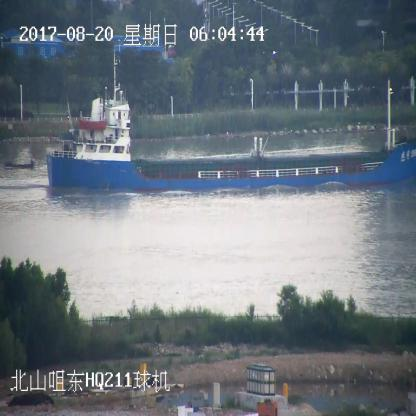Fishing Boat: (7, 158, 33, 170)
